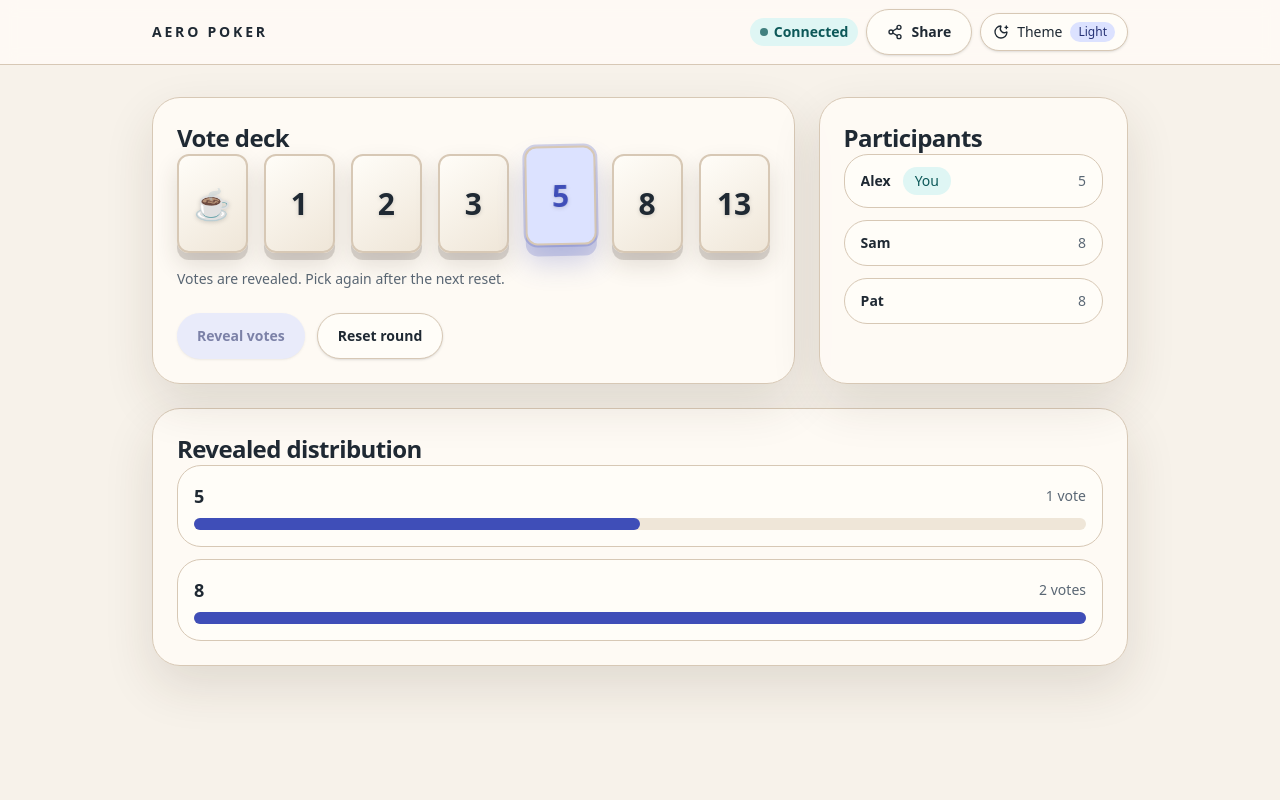
Test case: RoomPage › clears stored credentials when the reset action reports ROOM_NOT_FOUND
The width and height of the screenshot is (1280, 800).
Click the button "Reset round" at (380, 336), box left=317, top=313, right=443, bottom=359
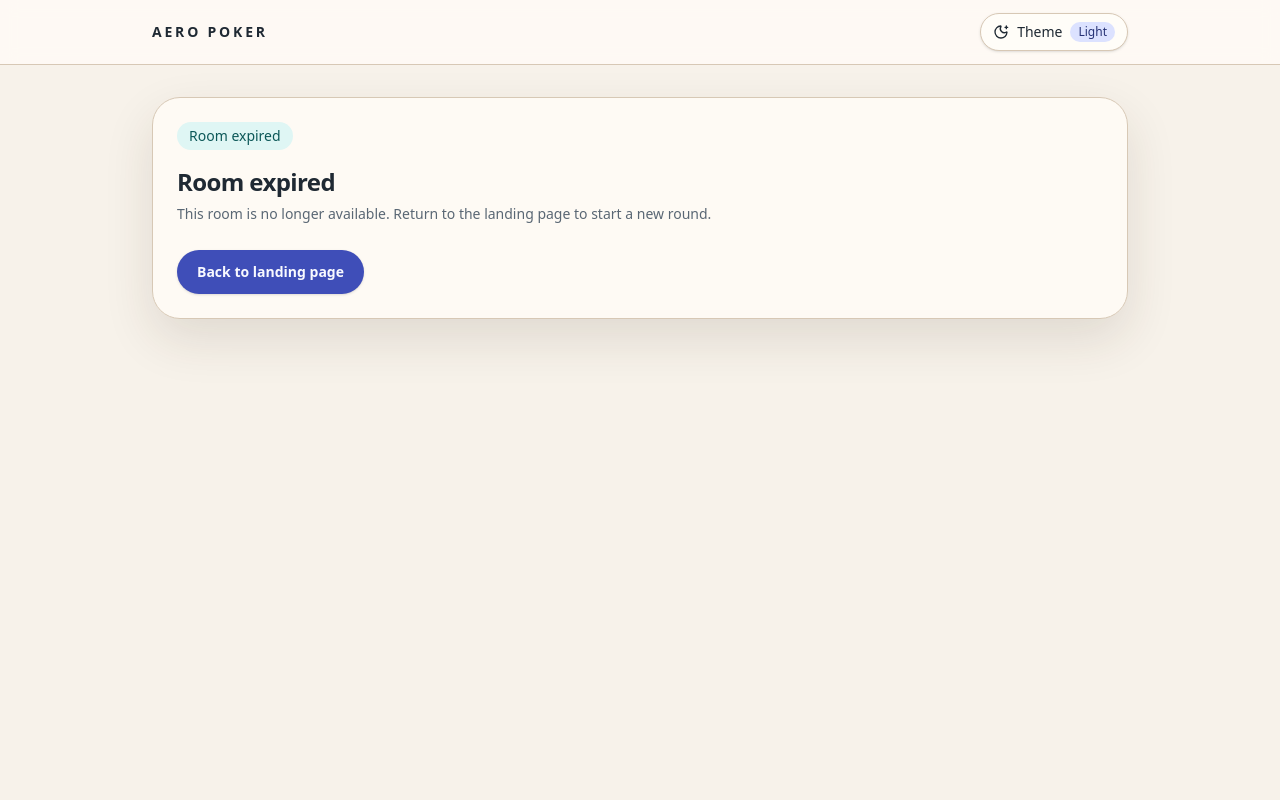
Expected: the heading "Room expired" is shown, left=177, top=165, right=335, bottom=198
